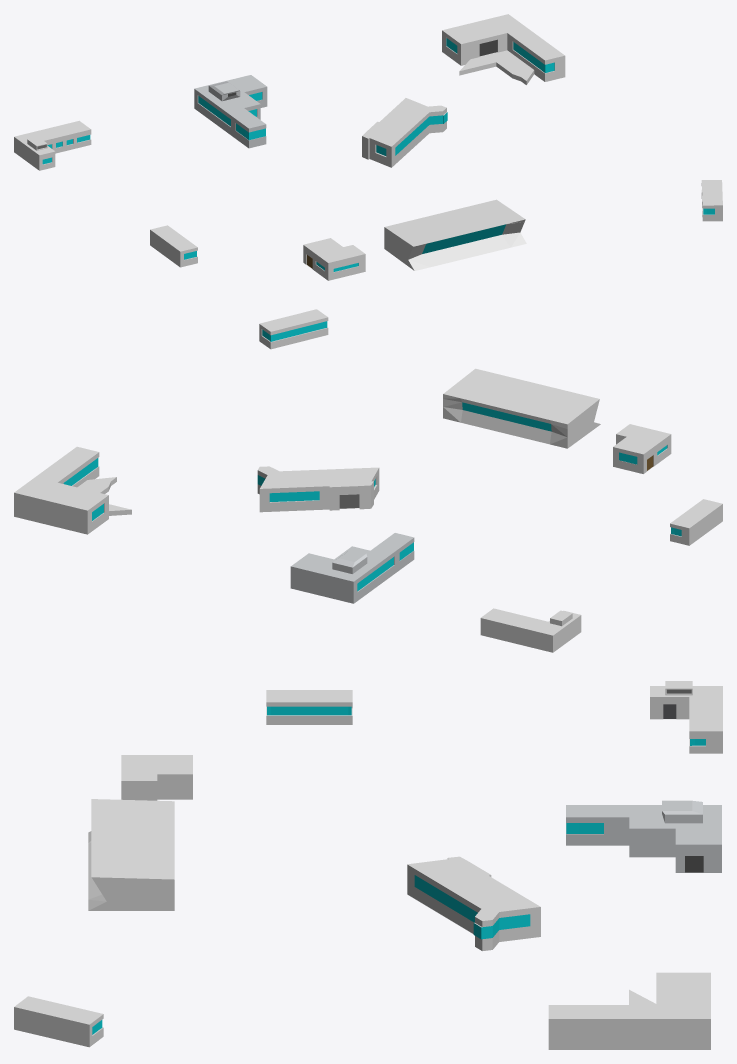
Rendered from edificios mapa.fbx.
3 views of the same model, one above another, from view 1: azimuth 30°, elevation 25°; view 2: azimuth 150°, elevation 25°; view 3: azimuth 270°, elevation 25° (orthographic). The views are drawn at different scales.
Parts seen in each view (by area): view 1: Cubo, Cubo.008, Cubo.006, Cubo.009, Cubo.003, Cubo.001, Cubo.004, Cubo.005; view 2: Cubo, Cubo.008, Cubo.006, Cubo.009, Cubo.003, Cubo.001, Cubo.005, Cubo.004; view 3: Cubo, Cubo.008, Cubo.006, Cubo.009, Cubo.003, Cubo.001, Cubo.005, Cubo.004.
Part boxes in pixels (x1,y1,x2,y2): Cubo: [384, 199, 526, 270]; Cubo.008: [442, 14, 565, 84]; Cubo.006: [194, 75, 267, 148]; Cubo.009: [362, 98, 447, 167]; Cubo.003: [14, 120, 91, 170]; Cubo.001: [303, 238, 365, 280]; Cubo.004: [150, 225, 197, 267]; Cubo.005: [701, 180, 722, 221]; Cubo: [443, 368, 600, 448]; Cubo.008: [14, 446, 131, 534]; Cubo.006: [290, 533, 414, 603]; Cubo.009: [257, 466, 379, 512]; Cubo.003: [480, 608, 581, 652]; Cubo.001: [613, 424, 671, 473]; Cubo.005: [259, 309, 328, 349]; Cubo.004: [670, 499, 722, 545]; Cubo: [88, 799, 174, 910]; Cubo.008: [548, 972, 710, 1049]; Cubo.006: [566, 800, 721, 872]; Cubo.009: [407, 856, 540, 951]; Cubo.003: [650, 681, 722, 753]; Cubo.001: [121, 755, 192, 800]; Cubo.005: [14, 996, 103, 1047]; Cubo.004: [266, 690, 352, 724].
Size of the model in its own units: 24477 by 1319 by 21448.
